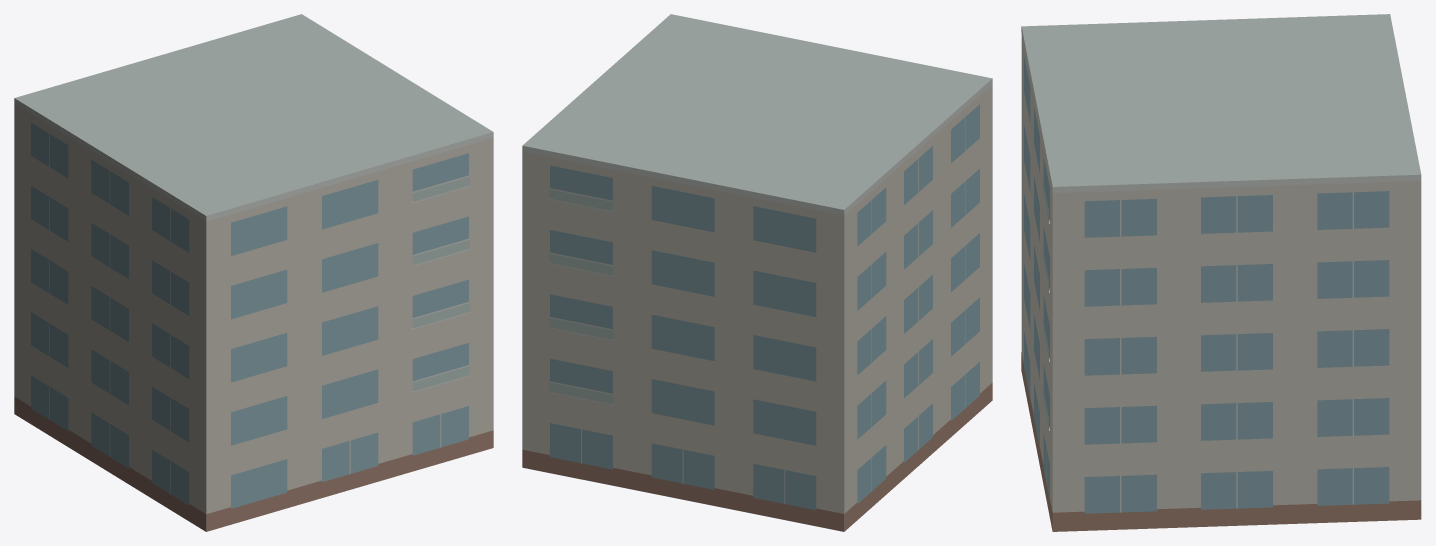
The model's file is survey-upis-32756501.glb.
The picture shows the model from 3 angles, left to right: view 1: azimuth 30°, elevation 25°; view 2: azimuth 150°, elevation 25°; view 3: azimuth 270°, elevation 25°; orthographic projection. The views are drawn at different scales.
Visible parts, largest first — view 1: survey-upis-32756501.tmp; view 2: survey-upis-32756501.tmp; view 3: survey-upis-32756501.tmp.
Boxes of the visible parts, x1,y1,x2,y2 form: survey-upis-32756501.tmp: (14, 14, 493, 531); survey-upis-32756501.tmp: (522, 14, 992, 531); survey-upis-32756501.tmp: (1021, 14, 1421, 531).
Bounding box in the file's own units: 14.53 × 13.5 × 14.19.
